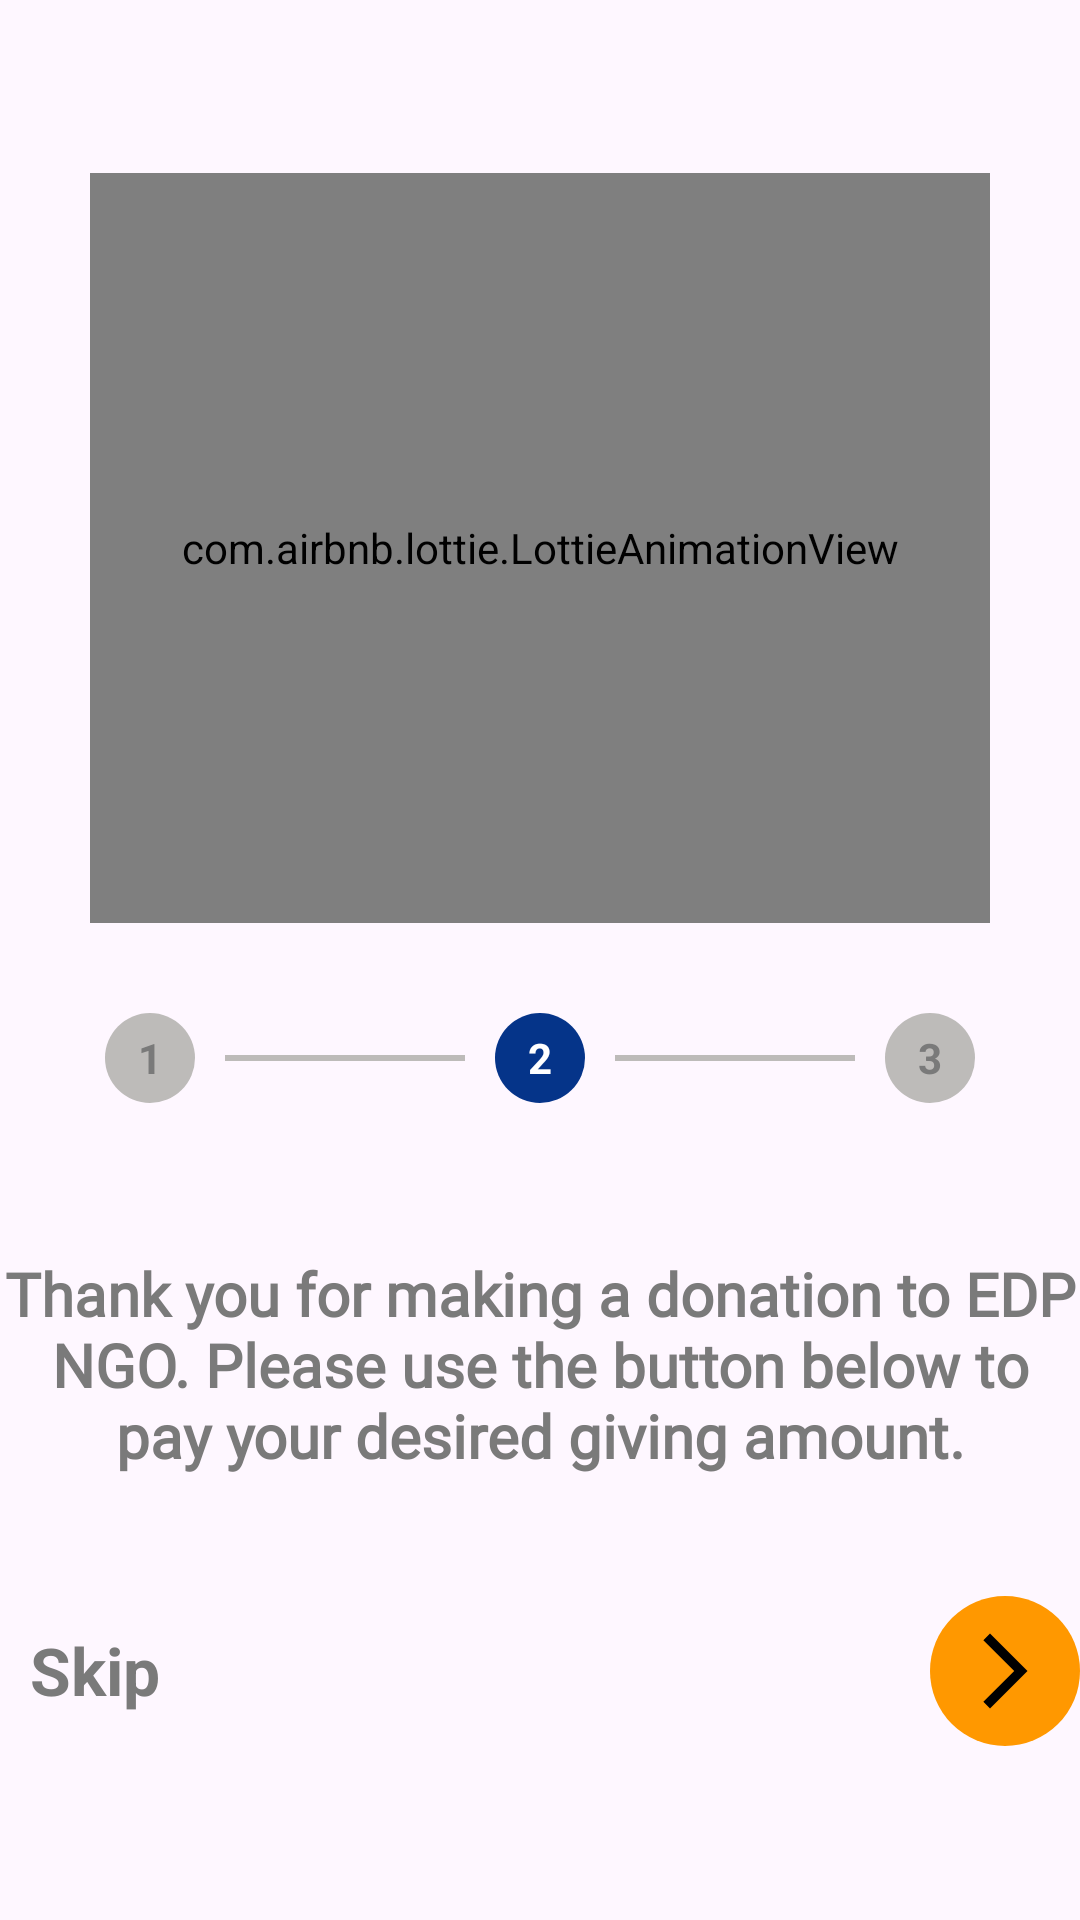

Point at icon controls on the screen. Image size 1080*1920, points as (x=x, y=y).
arrow forward: (x=1005, y=1671)
